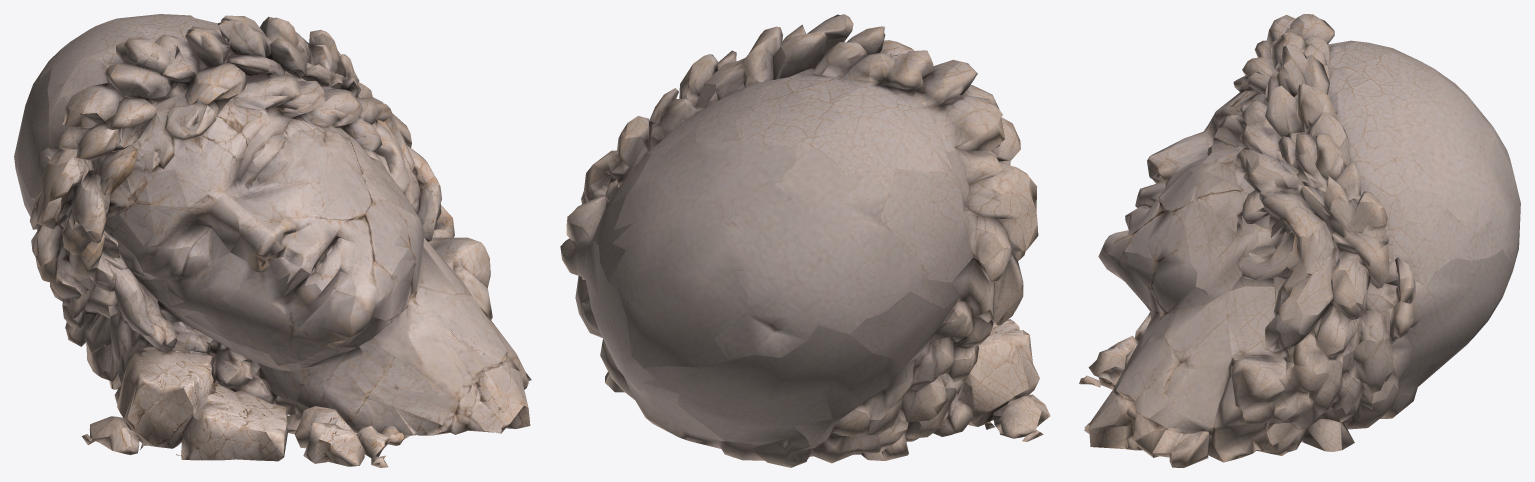
The model's file is marble-head.glb.
3 renders of one model, left to right at view 1: azimuth 30°, elevation 25°; view 2: azimuth 150°, elevation 25°; view 3: azimuth 270°, elevation 25°, orthographic. The views are drawn at different scales.
Visible parts, largest first — view 1: marble-head; view 2: marble-head; view 3: marble-head.
Part boxes in pixels (x1,y1,x2,y2): marble-head: (14,14,531,467); marble-head: (560,14,1050,467); marble-head: (1079,14,1520,467).
Size of the model in its own units: 1.84 by 1.53 by 1.9.
Materials: 1 (1 with a texture image).
